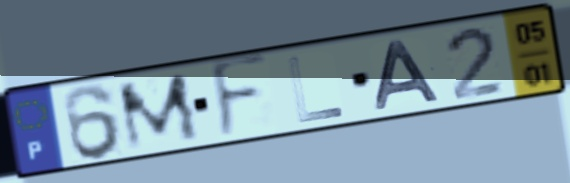2: (442, 24, 508, 103)
6: (61, 81, 125, 163)
A: (373, 37, 445, 113)
F: (208, 50, 272, 146)
L: (285, 53, 348, 126)
M: (113, 69, 205, 154)
